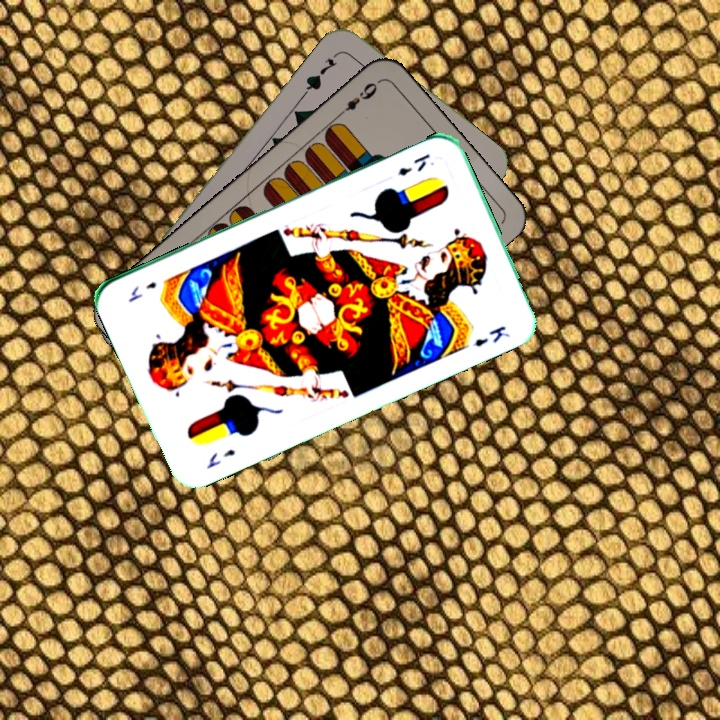E9: (333, 78, 380, 120)
EK: (393, 149, 432, 179), (202, 445, 238, 471)
G7: (300, 47, 344, 97)
